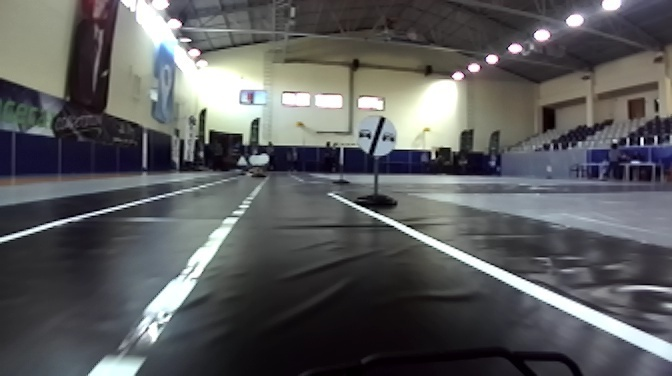sollama_serbest: (355, 115, 397, 157)
